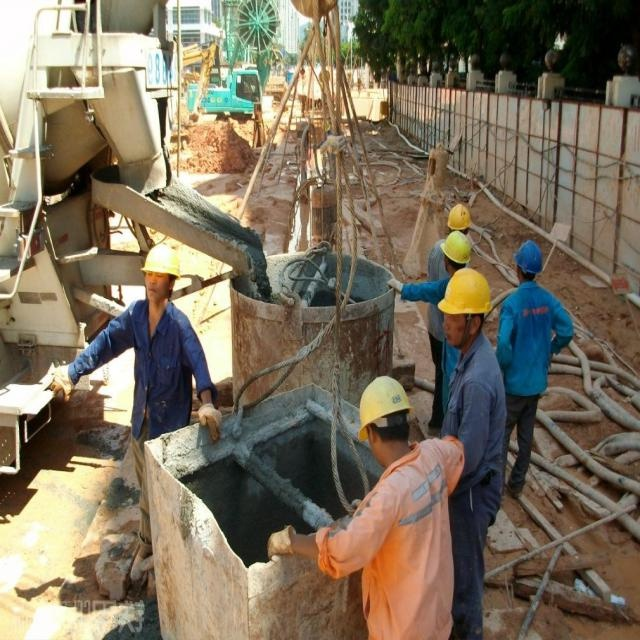Con_Casco: (357, 377, 410, 459), (437, 267, 489, 345), (139, 243, 180, 298), (515, 240, 542, 281)
Sin_Chaleco: (132, 302, 188, 430), (506, 290, 551, 394)
